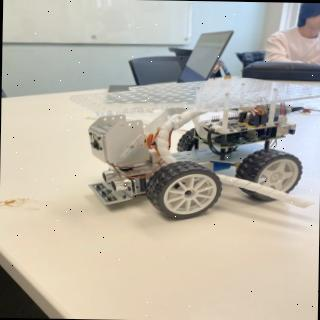vehicle: (67, 74, 312, 222)
